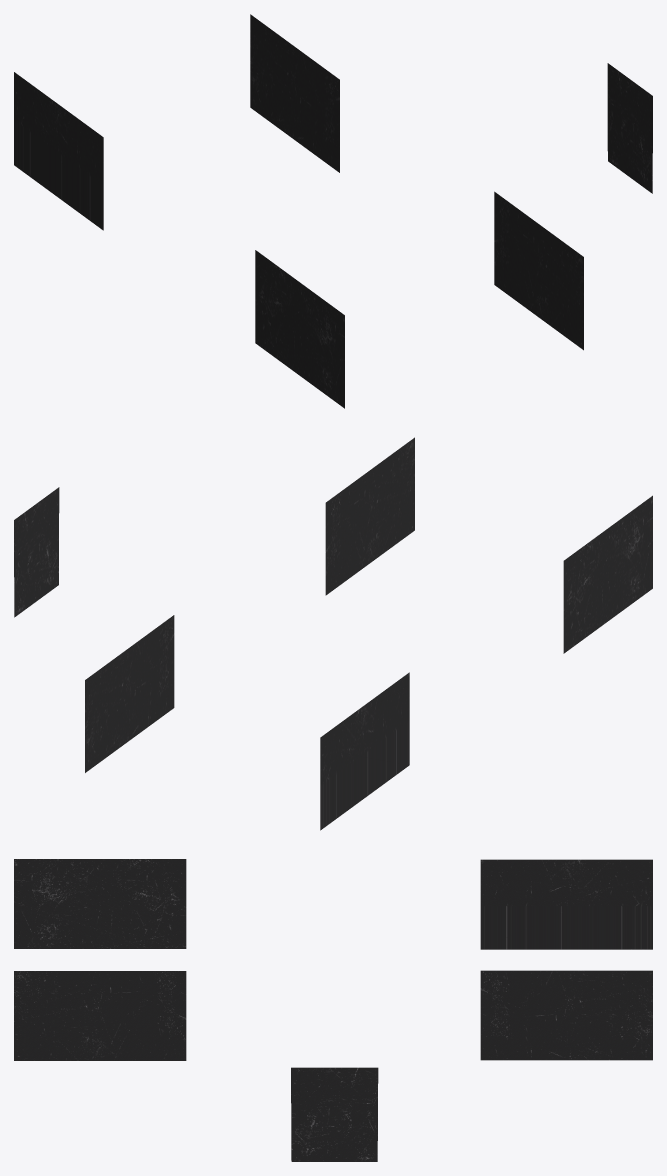
File: FakeWalls.fbx
3 views of the same model, one above another, from view 1: azimuth 30°, elevation 25°; view 2: azimuth 150°, elevation 25°; view 3: azimuth 270°, elevation 25° (orthographic). The views are drawn at different scales.
Visible parts, largest first — view 1: Fake walls; view 2: Fake walls; view 3: Fake walls.
Part boxes in pixels (<box>): Fake walls: <box>14,14,652,408</box>; Fake walls: <box>14,437,652,830</box>; Fake walls: <box>14,859,652,1161</box>.
Size of the model in its own units: 1164 by 242 by 1483.
